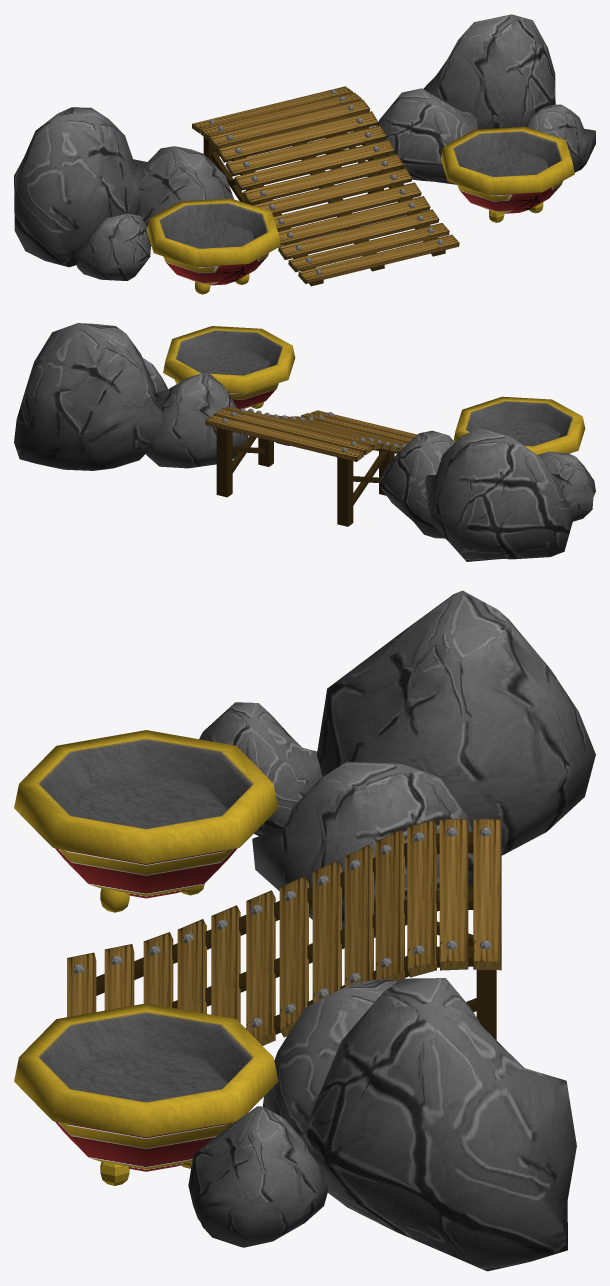
Rendered from Ramp_Model.fbx.
3 views of the same model, one above another, from view 1: azimuth 30°, elevation 25°; view 2: azimuth 150°, elevation 25°; view 3: azimuth 270°, elevation 25° (orthographic). The views are drawn at different scales.
Parts seen in each view (by area): view 1: Stone_6, Stone_1, Right_Base_Fire, Left_Base_Fire, Stone_3, Stone_4, Stone_5, Board_10, Board_9, Board_8, Board_7, Board_3 (+11 smaller); view 2: Stone_1, Stone_6, Right_Base_Fire, Stone_3, Left_Base_Fire, Stone_4, Sticks_Support2, Stone_5, Board_13, Board_12, Board_11, Board_2 (+3 smaller); view 3: Stone_1, Stone_6, Left_Base_Fire, Right_Base_Fire, Stone_4, Stone_2, Stone_3, Stone_5, Board_12, Board_11, Board_13, Board_10 (+11 smaller).
Boxes of the visible parts, box(x1,y1,x2,y2) form: Stone_6: box(14, 107, 146, 267); Stone_1: box(423, 14, 555, 129); Right_Base_Fire: box(441, 126, 574, 213); Left_Base_Fire: box(147, 198, 280, 285); Stone_3: box(376, 88, 478, 184); Stone_4: box(139, 146, 233, 246); Stone_5: box(77, 213, 150, 280); Board_10: box(217, 111, 378, 162); Board_9: box(225, 125, 386, 176); Board_8: box(234, 139, 394, 190); Board_7: box(242, 154, 403, 204); Board_3: box(278, 209, 439, 259); Stone_1: box(14, 323, 162, 470); Stone_6: box(425, 427, 572, 561); Right_Base_Fire: box(163, 326, 295, 408); Stone_3: box(146, 373, 248, 468); Left_Base_Fire: box(453, 396, 585, 454); Stone_4: box(379, 430, 454, 538); Sticks_Support2: box(216, 414, 394, 526); Stone_5: box(537, 451, 595, 521); Board_13: box(205, 415, 363, 461); Board_12: box(214, 409, 372, 455); Board_11: box(222, 407, 380, 449); Board_2: box(301, 413, 412, 442); Stone_1: box(300, 978, 576, 1271); Stone_6: box(317, 590, 595, 855); Left_Base_Fire: box(14, 730, 278, 898); Right_Base_Fire: box(14, 1003, 278, 1171); Stone_4: box(252, 762, 473, 937); Stone_2: box(188, 1106, 328, 1247); Stone_3: box(263, 978, 396, 1136); Stone_5: box(199, 702, 322, 835); Board_12: box(439, 818, 468, 970); Board_11: box(407, 819, 436, 977); Board_13: box(473, 818, 501, 970); Board_10: box(375, 829, 404, 981).
Size of the model in its own units: 61.82 by 14.52 by 29.96.
Materials: 3 (3 with a texture image).
